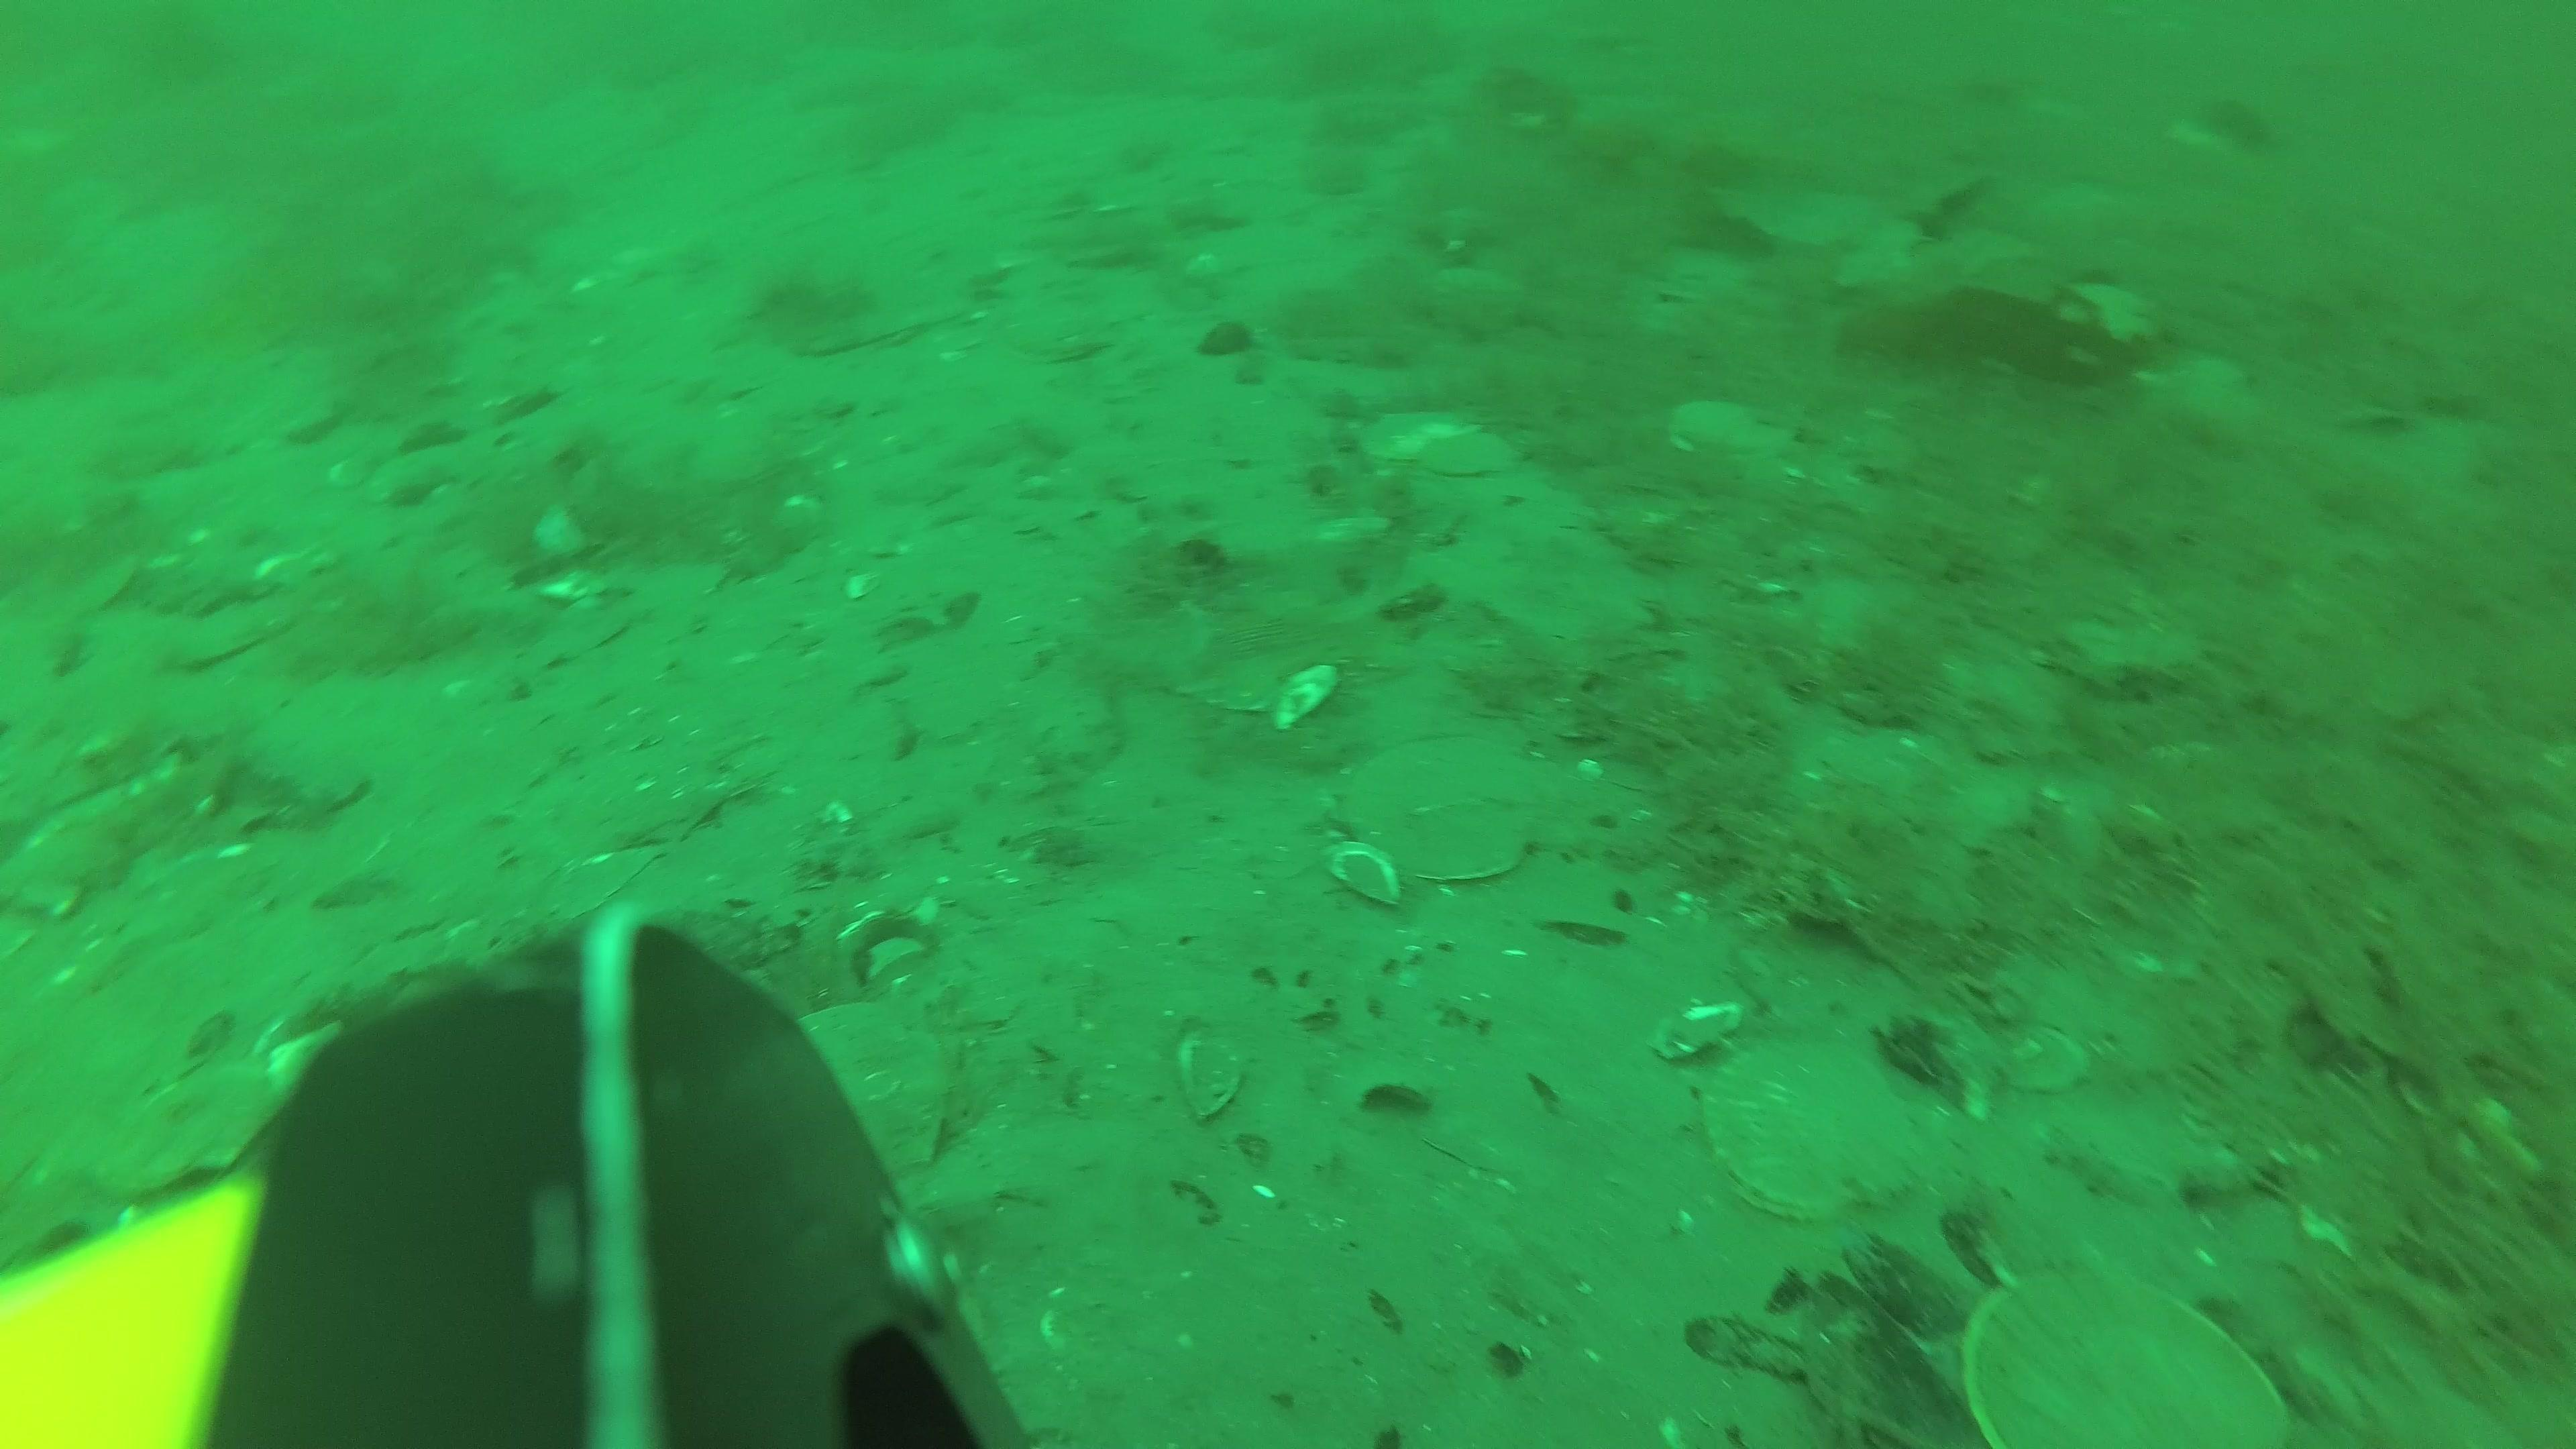scallop: (1957, 1265, 2284, 1449), (1704, 1037, 1923, 1215), (1348, 736, 1557, 888), (771, 1005, 947, 1182), (97, 1060, 283, 1207), (165, 605, 292, 679), (1668, 395, 1790, 462), (1008, 303, 1125, 363), (1364, 405, 1468, 467), (1440, 433, 1522, 478)
